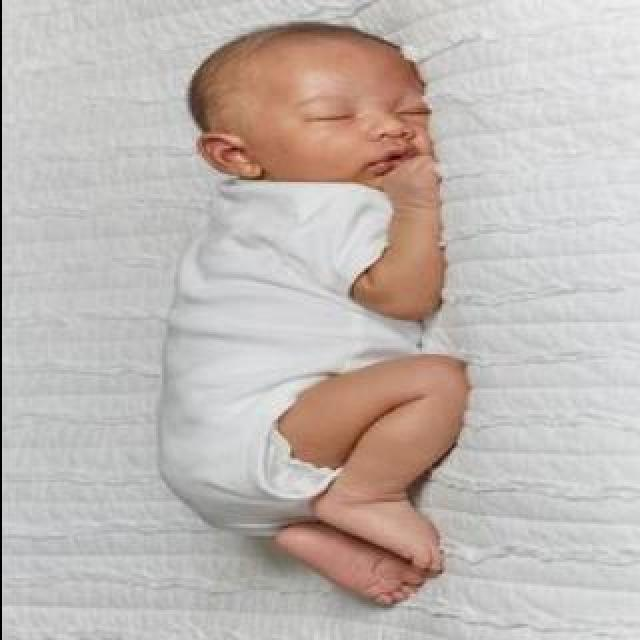baby: (159, 21, 467, 597)
